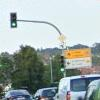traffic lights: (11, 13, 18, 28)
